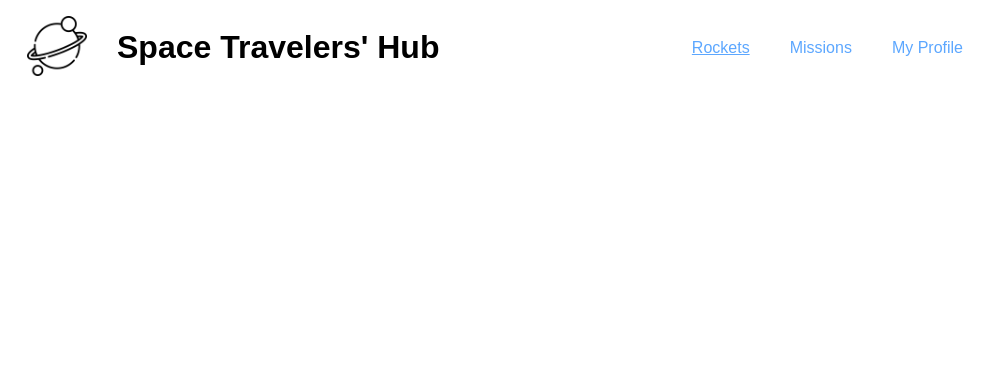
Testing MyProfile component in Application › Test showing the correct list of subscribed items
Step 1. Click the link "My Profile" → (927, 47), box x1=892 y1=39 x2=963 y2=56
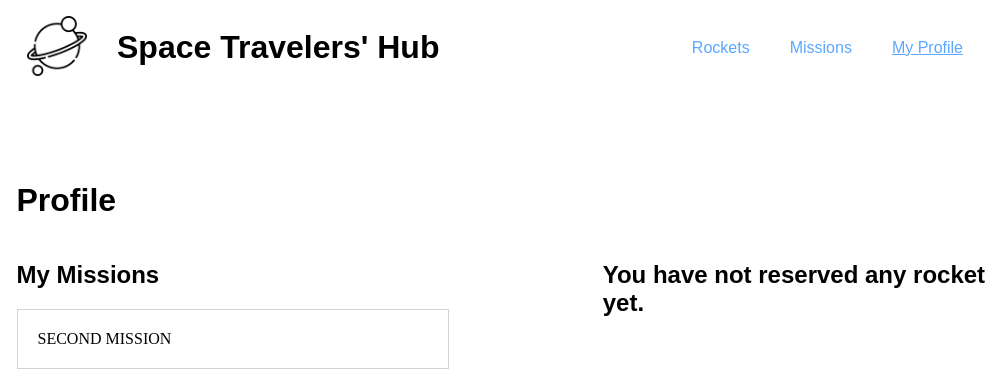
Expected: the list item "SECOND MISSION" is shown, x1=16 y1=309 x2=449 y2=369
